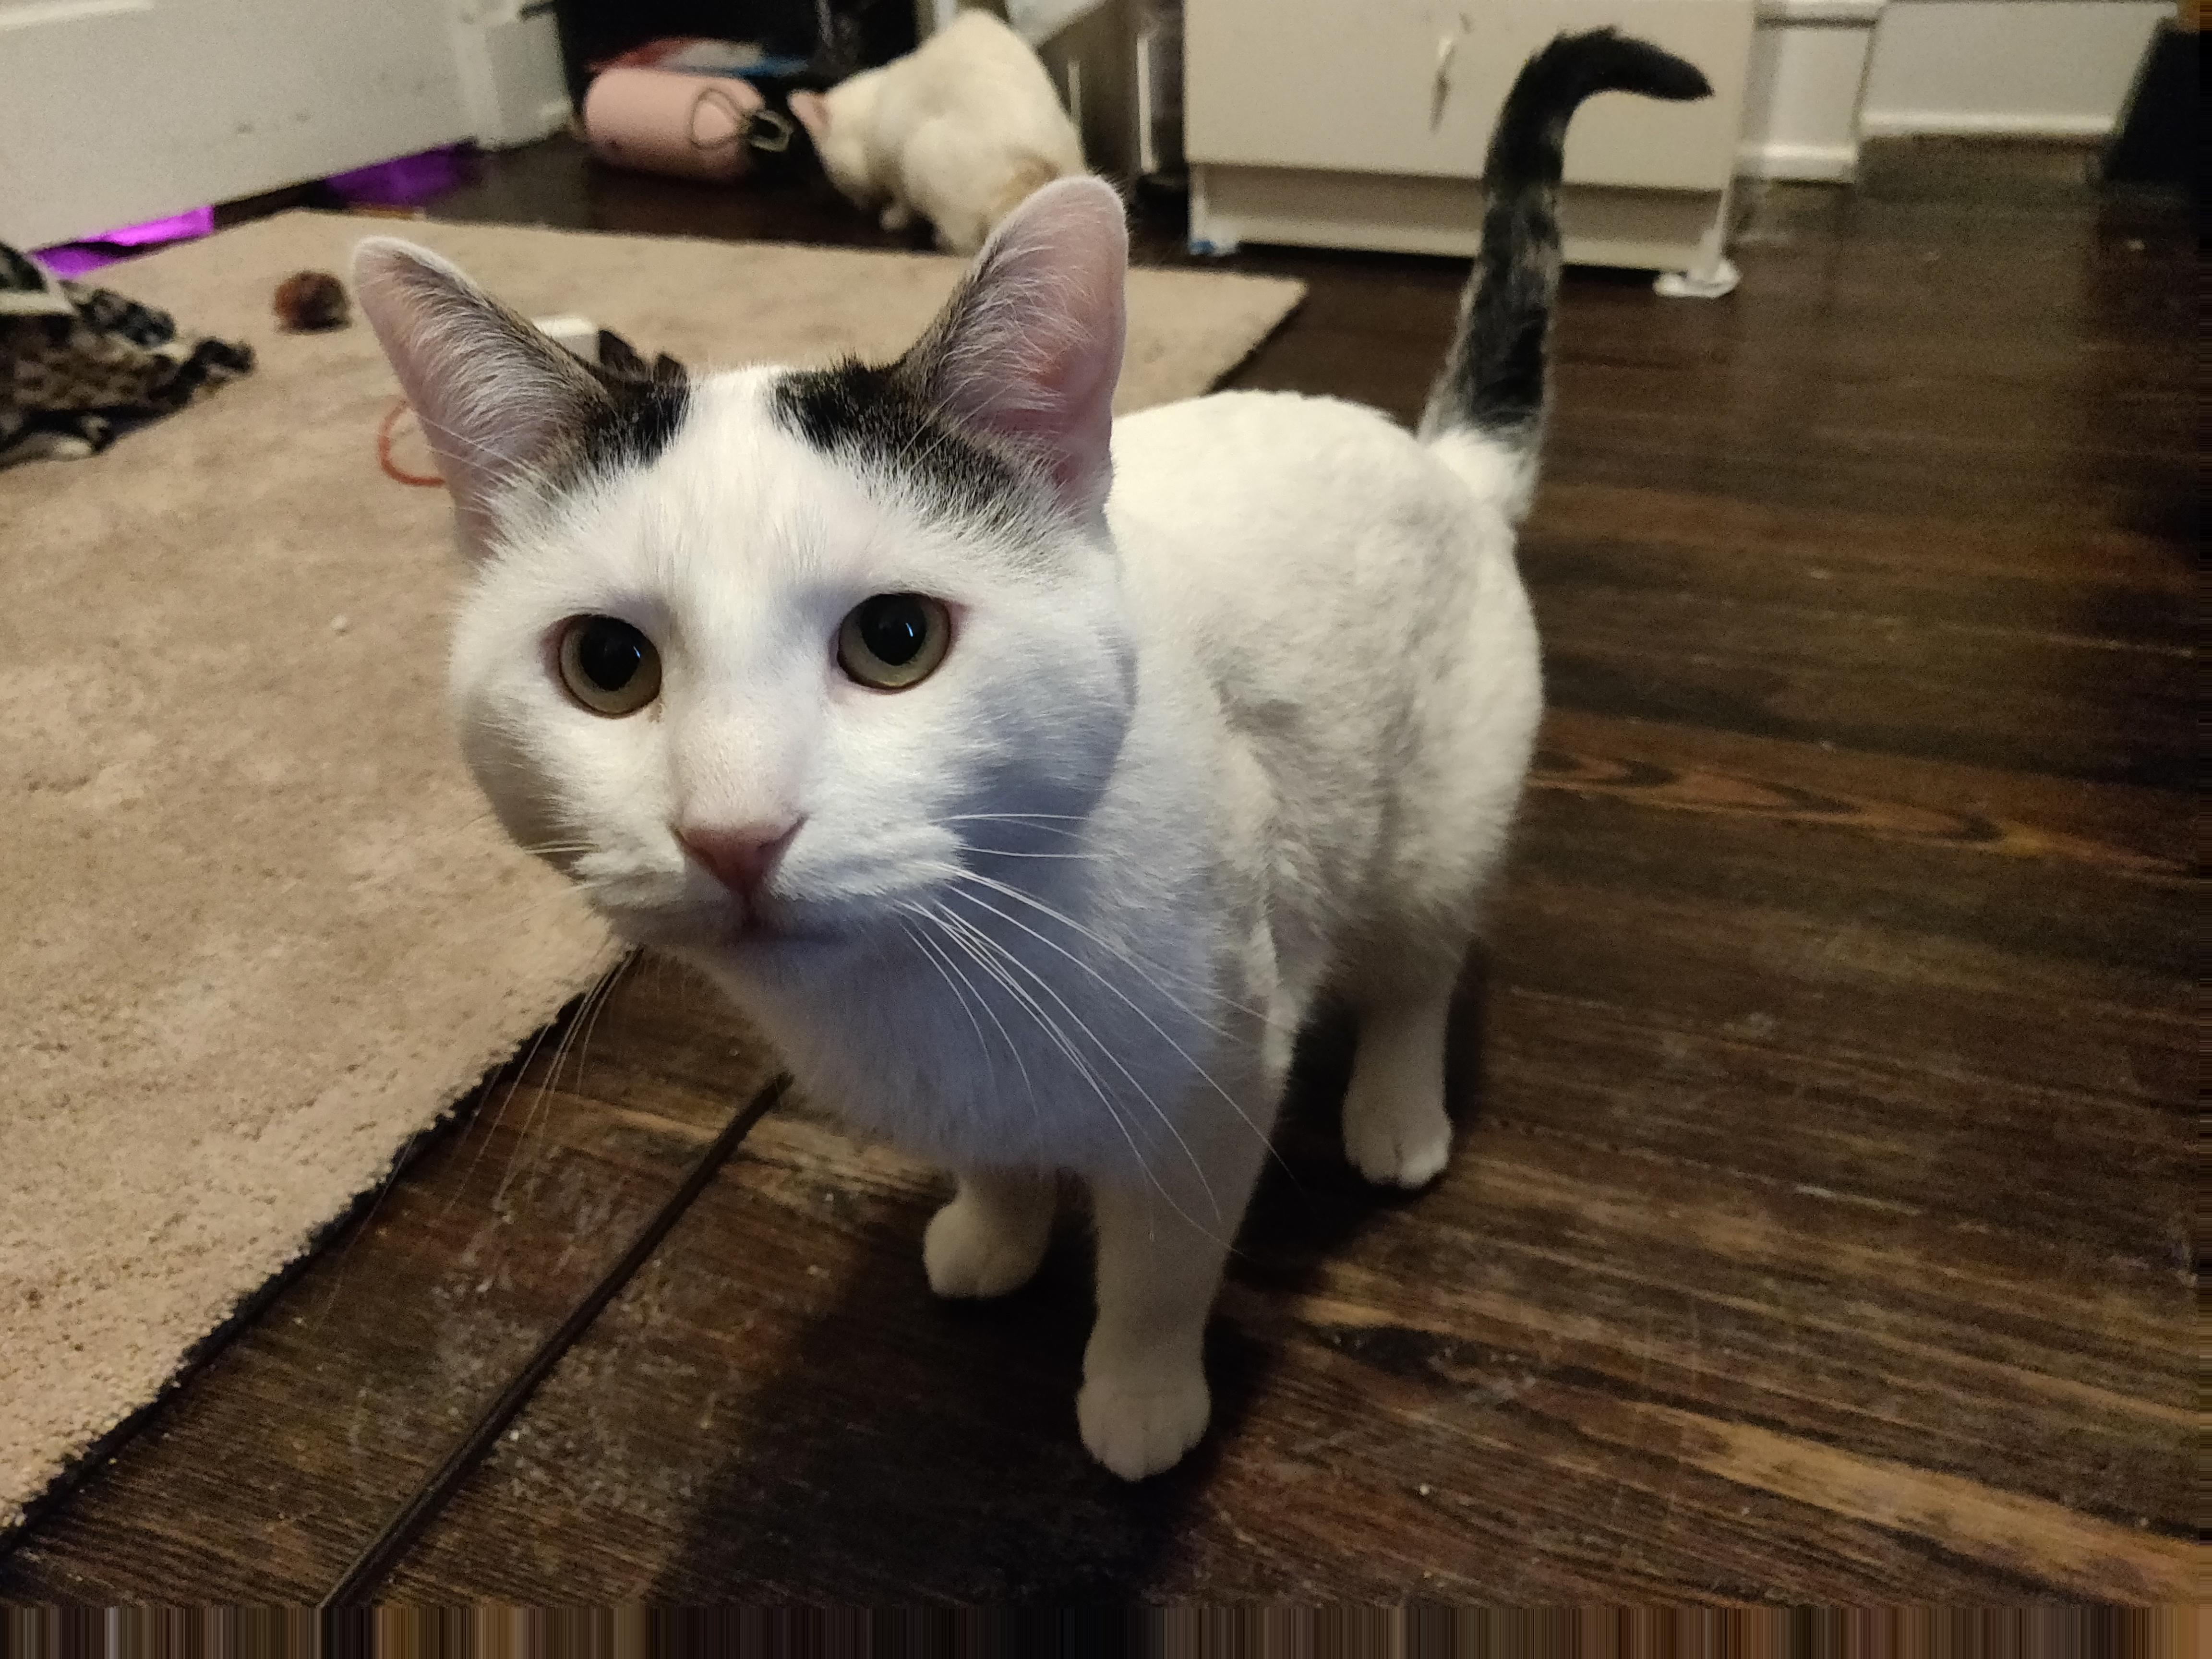cat: (318, 194, 1588, 1425)
